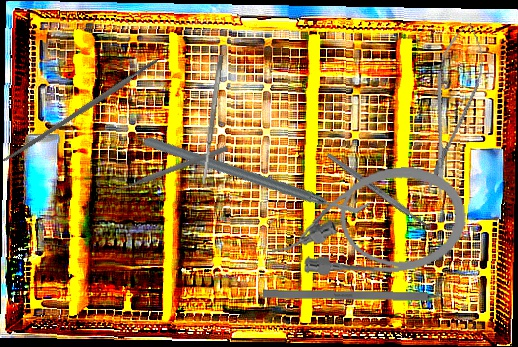Cannula: (263, 160, 472, 287)
Chopper: (141, 62, 374, 287)
Hook Surgical: (262, 289, 466, 302)
Micro Scissor: (411, 18, 493, 199)
Pusher: (110, 144, 229, 196)
Scalpel Handle: (1, 57, 161, 165), (324, 150, 431, 231)
Spatula Surgical: (199, 54, 225, 185)
